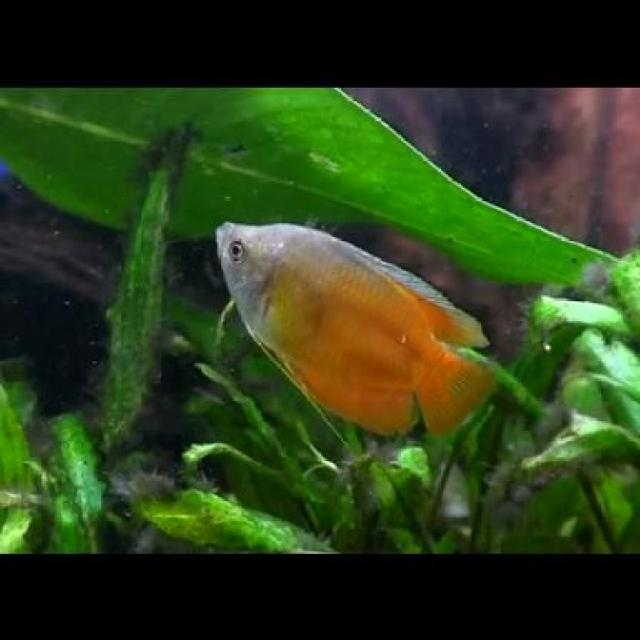Gourami: (212, 213, 498, 442)
